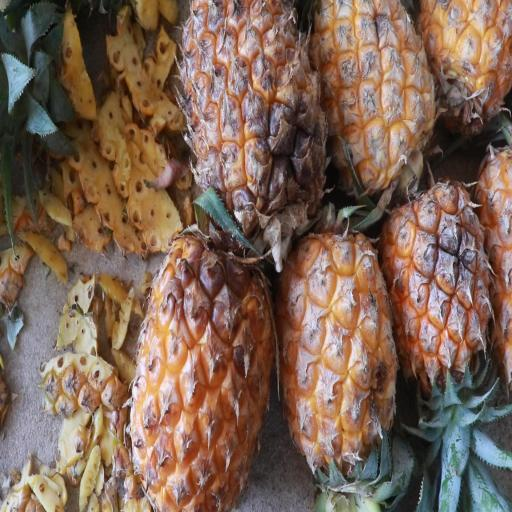Pineapple - v8 v1: (130, 220, 279, 511), (180, 0, 329, 245), (278, 216, 400, 474), (313, 0, 438, 205), (384, 174, 498, 386), (415, 0, 512, 148)
